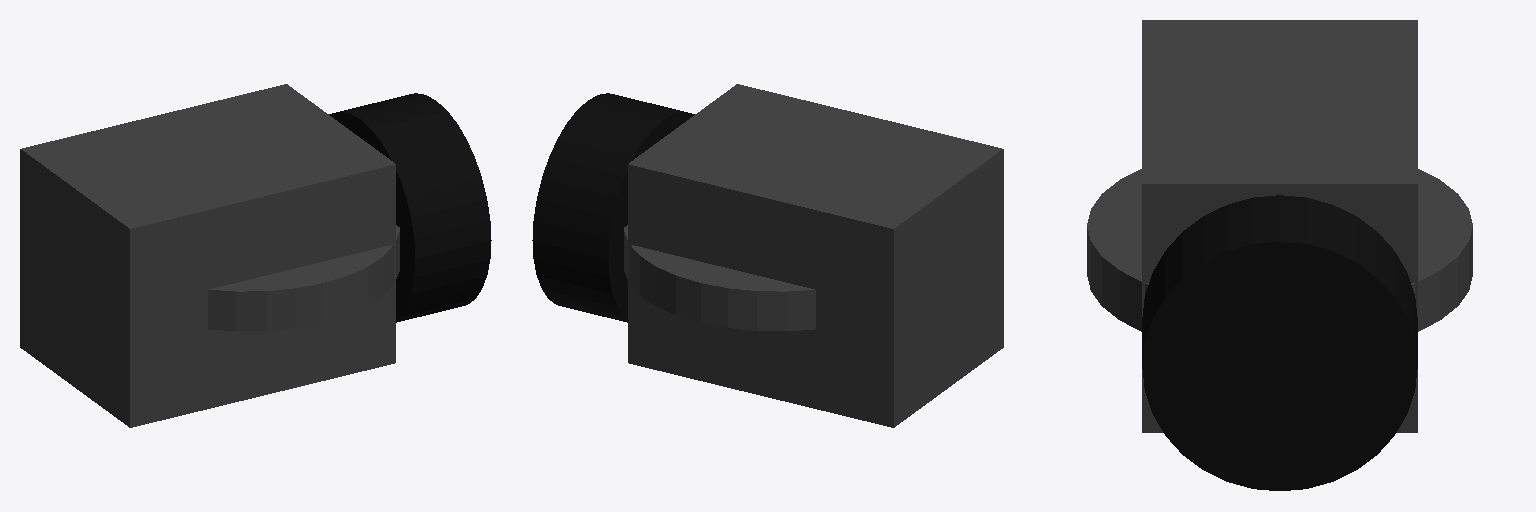
URDF robot description (PT_CAMERA):
<?xml version="1.0" ?>
<robot name="PT_CAMERA">
  <link name="PT_Base_Lower">
    <inertial>
      <mass value="0.01"/>
      <inertia ixx="3.15e-06" ixy="0" ixz="0" iyy="3.15e-06" iyz="0" izz="6.13e-06"/>
      <origin rpy="0 -0 0" xyz="0 0 0"/>
    </inertial>
    <origin rpy="0 -0 0" xyz="0 0 -0.015"/>
    <kinematic>0</kinematic>
    <enable_wind>0</enable_wind>
    <visual>
      <origin rpy="0 -0 0" xyz="0 0 0"/>
      <geometry>
        <cylinder length="0.01" radius="0.035"/>
      </geometry>
      <material name="Gazebo/Grey">
        <script>
          <uri>file://media/materials/scripts/gazebo.material</uri>
          <name>Gazebo/Grey</name>
        </script>
        <shader type="pixel">
          <normal_map>__default__</normal_map>
        </shader>
      </material>
      <transparency>0</transparency>
      <cast_shadows>1</cast_shadows>
    </visual>
  </link>
  <link name="PT_Base_Upper">
    <inertial>
      <mass value="0.1"/>
      <inertia ixx="5.146e-05" ixy="0" ixz="0" iyy="5.146e-05" iyz="0" izz="6.125e-05"/>
      <origin rpy="0 -0 0" xyz="0 0 0"/>
    </inertial>
    <origin rpy="0 -0 0" xyz="0 0 0.015"/>
    <kinematic>0</kinematic>
    <enable_wind>0</enable_wind>
    <visual>
      <origin rpy="0 -0 0" xyz="0 0 0"/>
      <geometry>
        <mesh filename="file:///home/shimizulab/t121085-BANNO/models/PT_CAMERA/PT_Base_Upper.dae"/>
      </geometry>
      <material name="Gazebo/Black">
        <script>
          <uri>file://media/materials/scripts/gazebo.material</uri>
          <name>Gazebo/Black</name>
        </script>
        <shader type="pixel">
          <normal_map>__default__</normal_map>
        </shader>
      </material>
      <transparency>0</transparency>
      <cast_shadows>1</cast_shadows>
    </visual>
  </link>
  <joint name="JOINT_PAN" type="revolute">
    <parent link="PT_Base_Lower"/>
    <child link="PT_Base_Upper"/>
    <origin rpy="0 -0 0" xyz="0 0 0"/>
    <axis xyz="-0 -0 -1"/>
    <limit effort="-1" lower="-3.14" upper="3.14" velocity="-1"/>
    <dynamics damping="0" spring_reference="0" spring_stiffness="0"/>
  </joint>
  <link name="camera_link">
    <audio_sink/>
    <origin rpy="0 0 0" xyz="0 0 0.04"/>
    <inertial>
      <mass value="0.06"/>
      <inertia ixx="2.5e-05" ixy="0" ixz="0" iyy="4.45e-05" iyz="0" izz="4.45e-05"/>
      <origin rpy="0 -0 0" xyz="0 0 0"/>
    </inertial>
    <enable_wind>0</enable_wind>
    <kinematic>0</kinematic>
    <visual>
      <origin rpy="0 -0 0" xyz="-0.01 0 0"/>
      <geometry>
        <box size="0.07 0.05 0.05"/>
      </geometry>
      <material name="Gazebo/Grey">
        <shader type="pixel">
          <normal_map>__default__</normal_map>
        </shader>
      </material>
      <transparency>0</transparency>
      <cast_shadows>1</cast_shadows>
    </visual>
    <visual>
      <origin rpy="0 1.57 0" xyz="0.04 0 0"/>
      <geometry>
        <cylinder length="0.02" radius="0.025"/>
      </geometry>
      <material name="Gazebo/FlatBlack">
        <shader type="pixel">
          <normal_map>__default__</normal_map>
        </shader>
      </material>
      <transparency>0</transparency>
      <cast_shadows>1</cast_shadows>
    </visual>
  </link>
  <joint name="JOINT_TILT" type="revolute">
    <parent link="PT_Base_Upper"/>
    <child link="camera_link"/>
    <origin rpy="0 0 0" xyz="0 0 0"/>
    <axis xyz="-0 -1 0"/>
    <limit effort="-1" lower="-0.7" upper="2.27" velocity="-1"/>
    <dynamics damping="0" spring_reference="0" spring_stiffness="0"/>
  </joint>
  <allow_auto_disable>1</allow_auto_disable>
  <material name="Gazebo/Grey">
    <color rgba=".3 .3 .3 1.0"/>
  </material>
  <material name="Gazebo/Black">
    <color rgba="0 0 0 1"/>
  </material>
  <material name="Gazebo/FlatBlack">
    <color rgba="0.1 0.1 0.1 1.0"/>
  </material>
</robot>

--- What the picture shows (computed from the rendered views, not written in the file) ---
3 views of the same robot in one strip: view 1: azimuth 30°, elevation 25°; view 2: azimuth 150°, elevation 25°; view 3: azimuth 270°, elevation 25° (orthographic).
Robot: PT_CAMERA — 3 links, 2 joints (2 revolute); root link PT_Base_Lower; default pose: every joint at zero.
Links seen in each view (by area): view 1: camera_link, PT_Base_Lower; view 2: camera_link, PT_Base_Lower; view 3: camera_link, PT_Base_Lower.
Boxes of the visible links, left/top/right/bottom form: camera_link: left=20, top=84, right=491, bottom=427; PT_Base_Lower: left=208, top=225, right=399, bottom=330; camera_link: left=532, top=84, right=1003, bottom=427; PT_Base_Lower: left=624, top=225, right=815, bottom=330; camera_link: left=1142, top=20, right=1417, bottom=490; PT_Base_Lower: left=1087, top=169, right=1472, bottom=331.
Bounding box of the posed robot: 0.095 × 0.07 × 0.05 m (x, y, z).
Geometry: only primitive shapes (box / cylinder / sphere) drawn; not drawn: 1 mesh visual (reference in a form the renderer does not follow).
